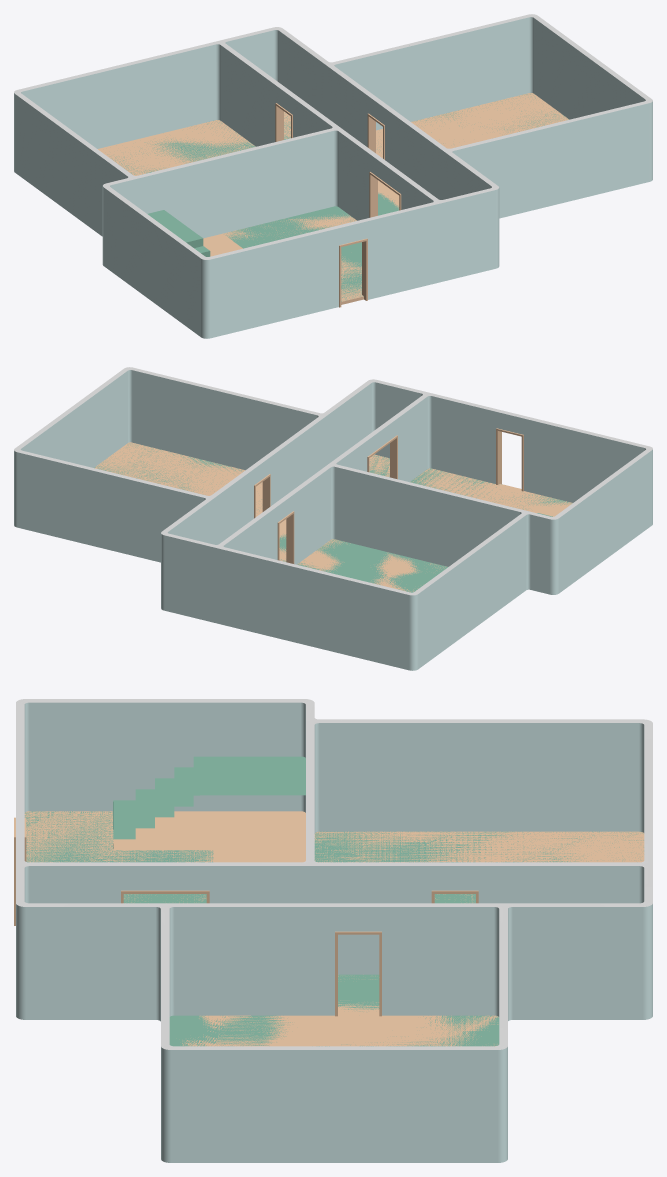
The model's file is 1st_floor.fbx.
3 renders of one model, top to bottom at view 1: azimuth 30°, elevation 25°; view 2: azimuth 150°, elevation 25°; view 3: azimuth 270°, elevation 25°, orthographic. The views are drawn at different scales.
Visible parts, largest first — view 1: Outside, Room1, Entrance Walls, Room2, Corridor, FullFloor, BloodMesh; view 2: Outside, Room1, Room2, Entrance Walls, Corridor, FullFloor, BloodMesh; view 3: Outside, Room2, Room1, FullFloor, Entrance Walls, Corridor, BloodMesh.
Part boxes in pixels (x1,y1,x2,y2): Outside: [14, 14, 652, 338]; Room1: [329, 15, 649, 153]; Entrance Walls: [106, 128, 437, 299]; Room2: [17, 42, 337, 177]; Corridor: [207, 28, 495, 216]; FullFloor: [98, 93, 568, 304]; BloodMesh: [107, 93, 568, 301]; Outside: [14, 367, 652, 670]; Room1: [17, 368, 322, 511]; Room2: [219, 464, 526, 593]; Entrance Walls: [332, 394, 649, 518]; Corridor: [164, 380, 437, 562]; FullFloor: [95, 442, 572, 592]; BloodMesh: [94, 443, 572, 592]; Outside: [14, 699, 652, 1162]; Room2: [309, 721, 647, 864]; Room1: [165, 905, 502, 1047]; FullFloor: [24, 811, 644, 1046]; Entrance Walls: [19, 700, 310, 864]; Corridor: [19, 854, 647, 974]; BloodMesh: [24, 756, 643, 1046].
Bounding box in the file's own units: 3436 × 516 × 2644.
